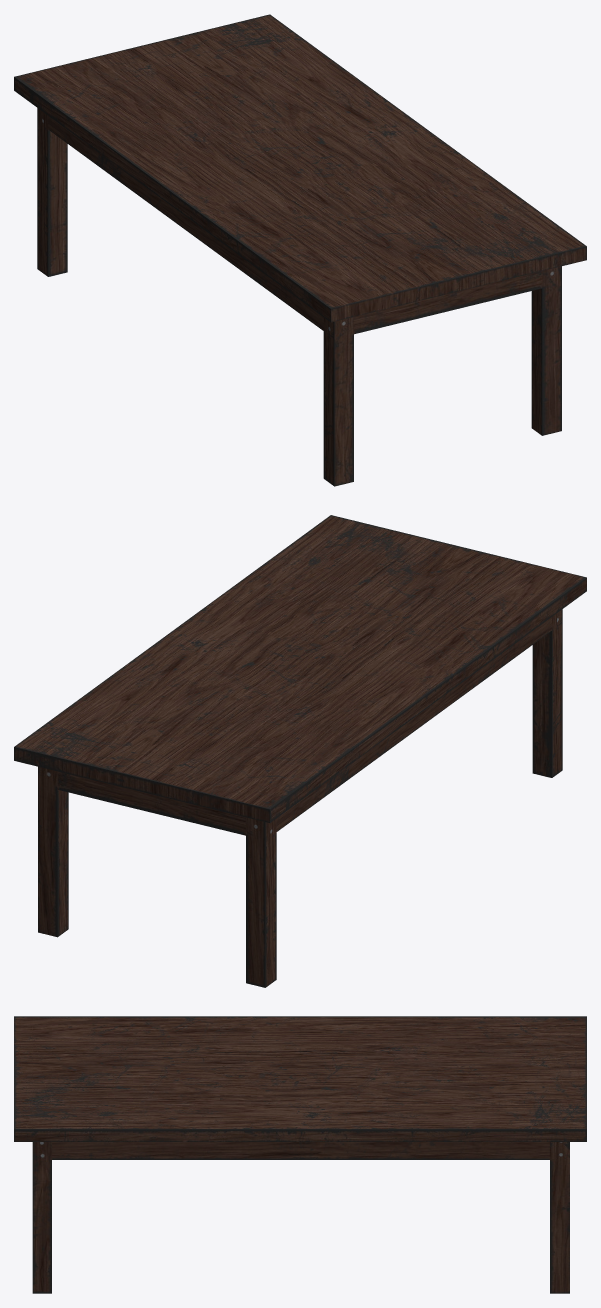
File: simple_table_low_poly.obj
3 renders of one model, top to bottom at view 1: azimuth 30°, elevation 25°; view 2: azimuth 150°, elevation 25°; view 3: azimuth 270°, elevation 25°, orthographic. The views are drawn at different scales.
Parts seen in each view (by area): view 1: defaultMaterial; view 2: defaultMaterial; view 3: defaultMaterial.
Part boxes in pixels (x1,y1,x2,y2): defaultMaterial: [14, 14, 586, 486]; defaultMaterial: [14, 515, 586, 987]; defaultMaterial: [14, 1016, 586, 1293].
Bounding box in the file's own units: 0.9328 × 0.657 × 2.
Materials: 1 (1 with a texture image).
